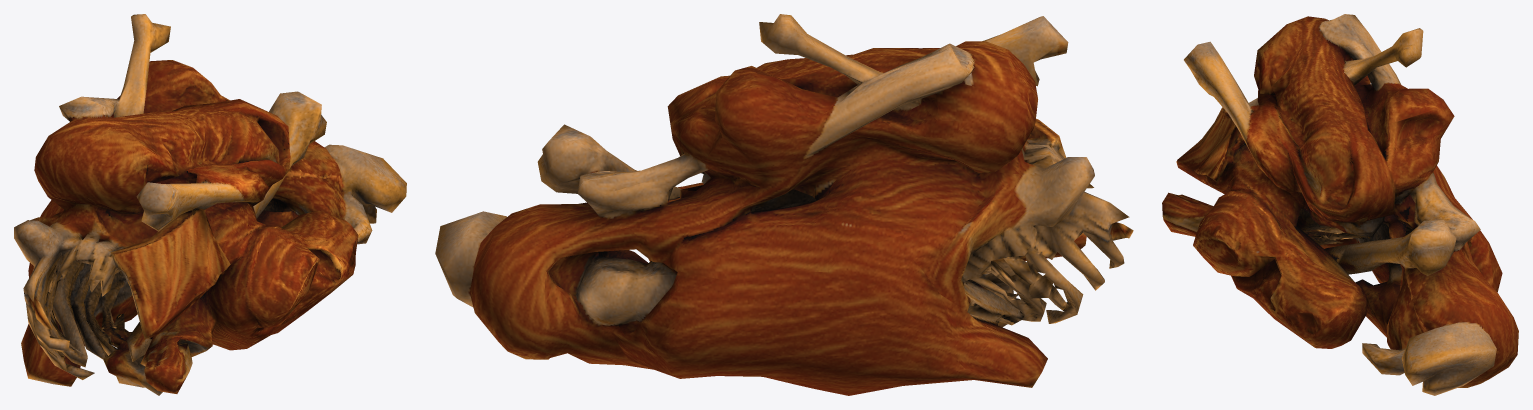
File: mm8_deco_carrion.glb
The picture shows the model from 3 angles, left to right: view 1: azimuth 30°, elevation 25°; view 2: azimuth 150°, elevation 25°; view 3: azimuth 270°, elevation 25°; orthographic projection. The views are drawn at different scales.
Parts seen in each view (by area): view 1: Carrion; view 2: Carrion; view 3: Carrion.
Boxes of the visible parts, <box> form: Carrion: <box>14,14,406,395</box>; Carrion: <box>435,14,1133,395</box>; Carrion: <box>1162,14,1518,395</box>.
Size of the model in its own units: 1.19 by 0.7304 by 0.8561.
Materials: 1 (1 with a texture image).
